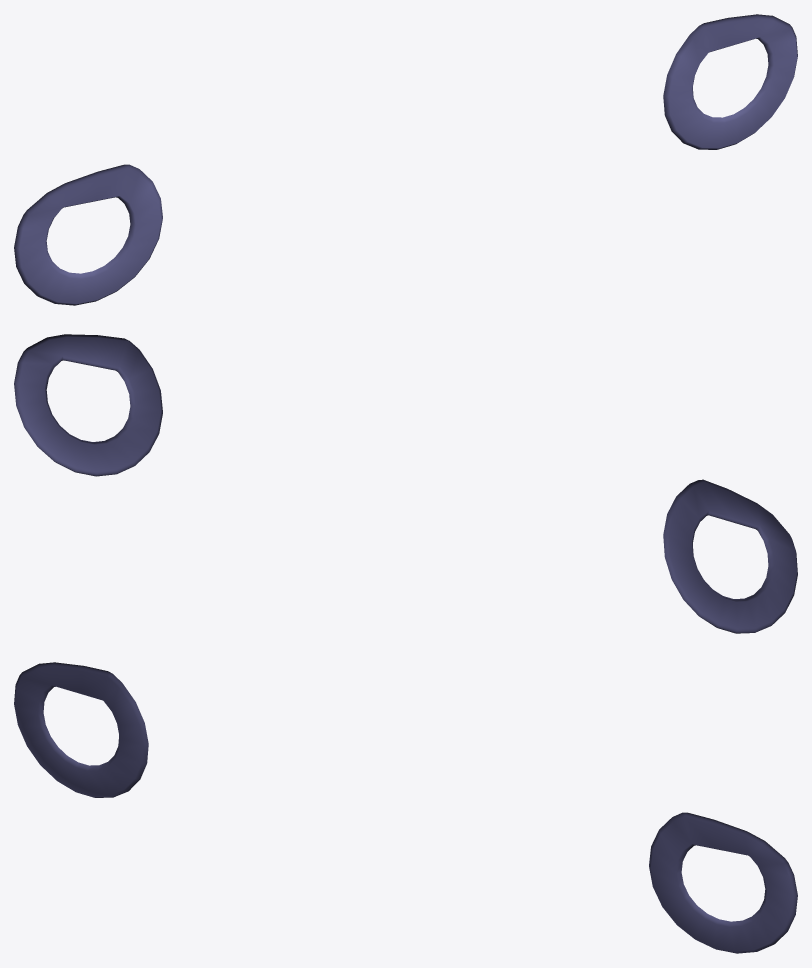
Rendered from Mustang16_Grill_05_Detail.fbx.
3 renders of one model, top to bottom at view 1: azimuth 30°, elevation 25°; view 2: azimuth 150°, elevation 25°; view 3: azimuth 330°, elevation 25°, orthographic.
Visible parts, largest first — view 1: Mustang16_Grill_05_Detail; view 2: Mustang16_Grill_05_Detail; view 3: Mustang16_Grill_05_Detail.
Part boxes in pixels (x1,y1,x2,y2): Mustang16_Grill_05_Detail: (14, 14, 797, 305); Mustang16_Grill_05_Detail: (14, 334, 797, 633); Mustang16_Grill_05_Detail: (14, 662, 797, 953).
Bounding box in the file's own units: 93.57 × 15.68 × 2.45.
